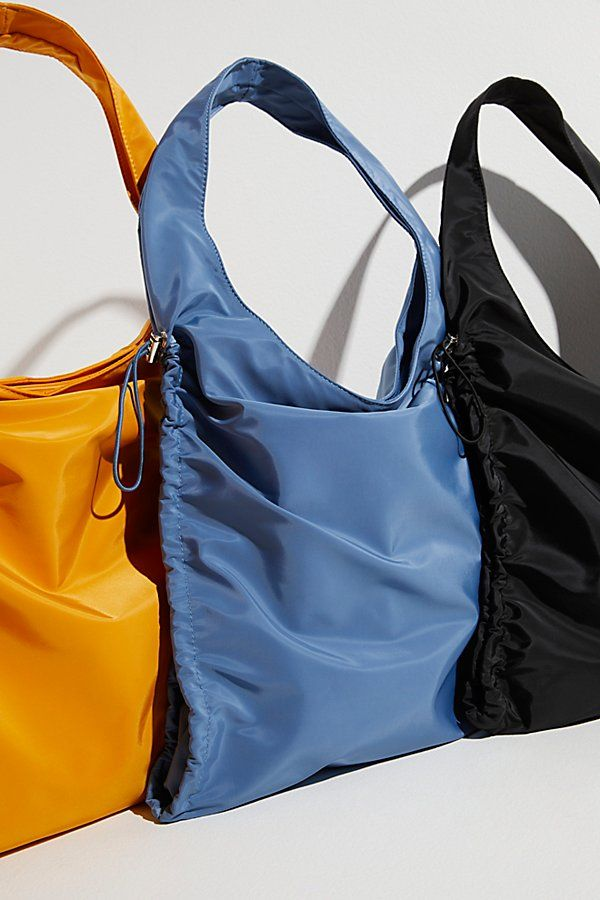nylon: (1, 1, 600, 857)
